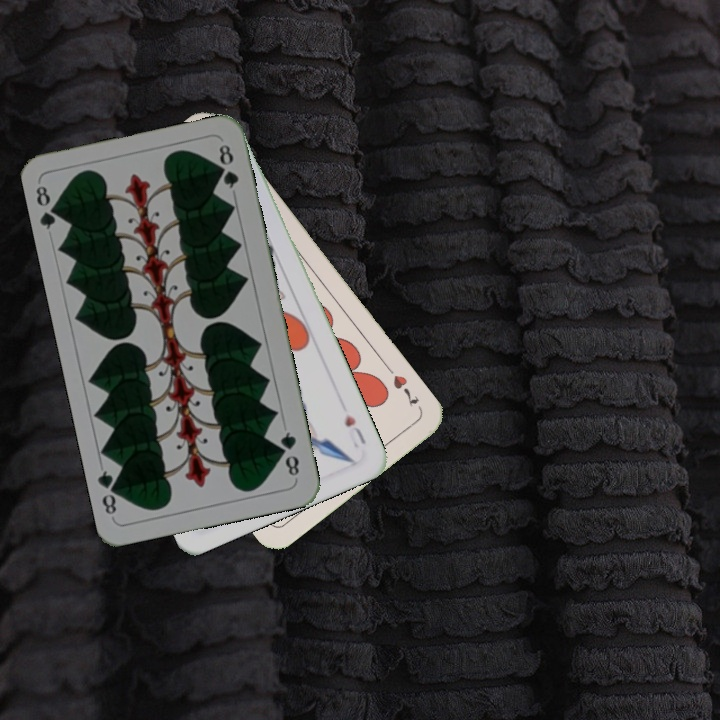G8: (31, 182, 64, 232), (276, 427, 302, 479)
H7: (382, 362, 422, 408)
HU: (340, 410, 369, 447)
